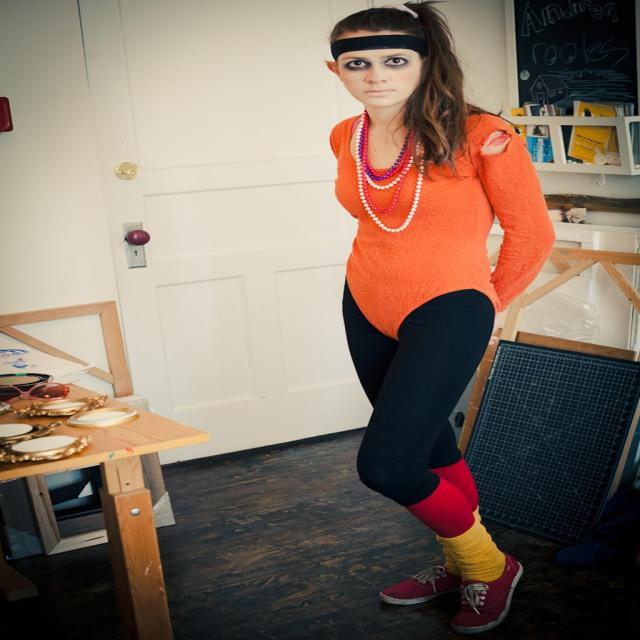Face: (306, 11, 426, 123)
